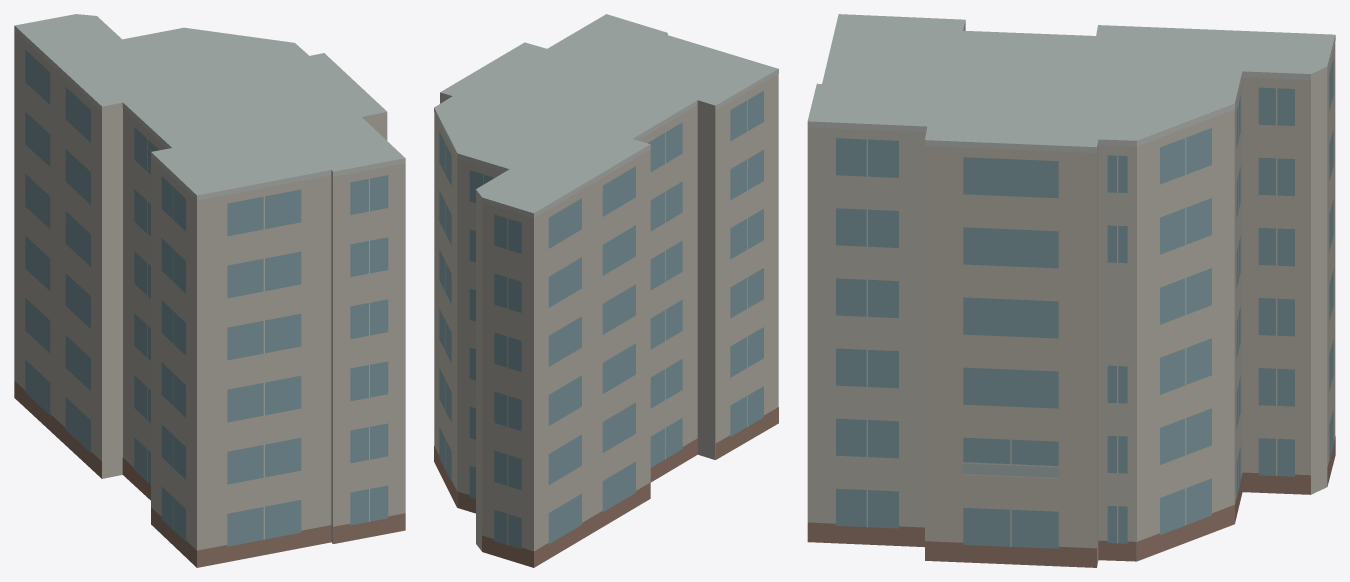
File: survey-upis-33021013.glb
The picture shows the model from 3 angles, left to right: view 1: azimuth 30°, elevation 25°; view 2: azimuth 150°, elevation 25°; view 3: azimuth 270°, elevation 25°; orthographic projection. The views are drawn at different scales.
Parts seen in each view (by area): view 1: survey-upis-33021013.tmp; view 2: survey-upis-33021013.tmp; view 3: survey-upis-33021013.tmp.
Part boxes in pixels (<box>): survey-upis-33021013.tmp: <box>14,14,405,567</box>; survey-upis-33021013.tmp: <box>434,14,778,567</box>; survey-upis-33021013.tmp: <box>807,14,1335,567</box>.
Bounding box in the file's own units: 11.93 × 17.55 × 19.97.
